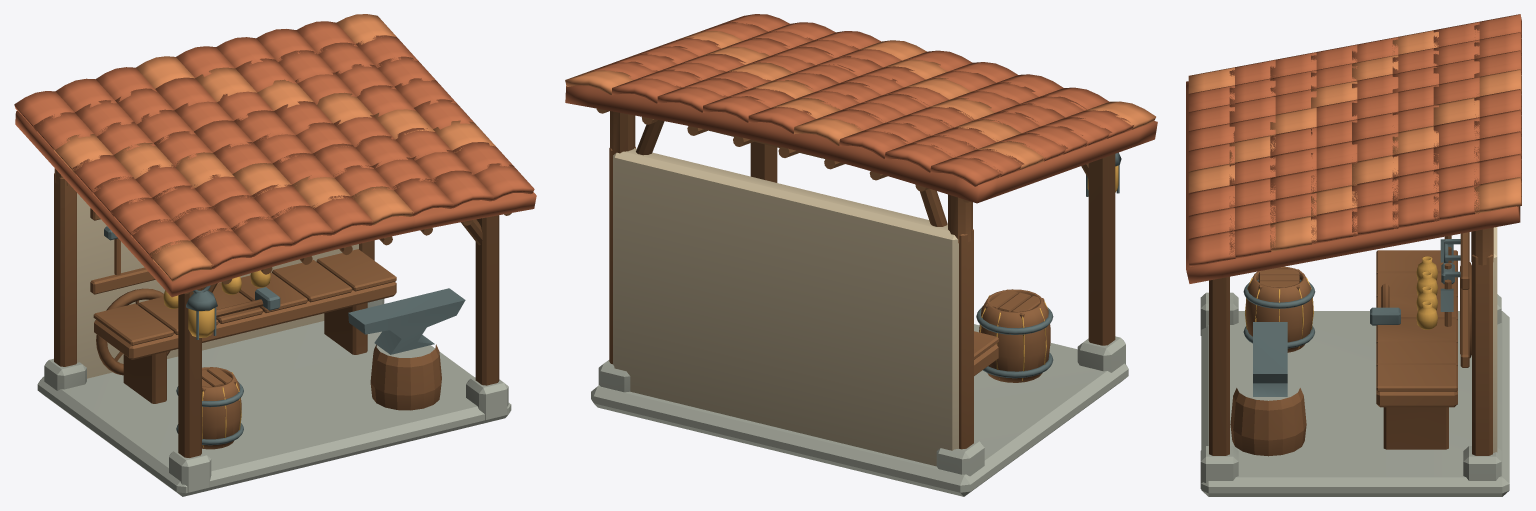
The model's file is village-smithYard.glb.
The picture shows the model from 3 angles, left to right: view 1: azimuth 30°, elevation 25°; view 2: azimuth 150°, elevation 25°; view 3: azimuth 270°, elevation 25°; orthographic projection. The views are drawn at different scales.
Parts seen in each view (by area): view 1: HERO_smithYard_batch_tile, HERO_smithYard_batch_timber, HERO_smithYard_batch_stone.001, HERO_smithYard_batch_tileLight, HERO_smithYard_batch_plaster, HERO_smithYard_batch_iron, HERO_smithYard_batch_brass; view 2: HERO_smithYard_batch_plaster, HERO_smithYard_batch_tile, HERO_smithYard_batch_stone.001, HERO_smithYard_batch_timber, HERO_smithYard_batch_tileLight, HERO_smithYard_batch_iron; view 3: HERO_smithYard_batch_tile, HERO_smithYard_batch_stone.001, HERO_smithYard_batch_timber, HERO_smithYard_batch_tileLight, HERO_smithYard_batch_iron, HERO_smithYard_batch_brass, HERO_smithYard_batch_plaster.
Part boxes in pixels (x1,y1,x2,y2): HERO_smithYard_batch_tile: (14,21,536,297); HERO_smithYard_batch_timber: (54,168,511,457); HERO_smithYard_batch_stone.001: (37,299,511,496); HERO_smithYard_batch_tileLight: (53,14,495,281); HERO_smithYard_batch_plaster: (77,193,358,378); HERO_smithYard_batch_iron: (104,226,465,445); HERO_smithYard_batch_brass: (163,270,270,447); HERO_smithYard_batch_plaster: (613,148,958,466); HERO_smithYard_batch_tile: (565,14,1157,203); HERO_smithYard_batch_stone.001: (591,324,1128,496); HERO_smithYard_batch_timber: (596,108,1115,449); HERO_smithYard_batch_tileLight: (565,30,1155,169); HERO_smithYard_batch_iron: (976,152,1121,378); HERO_smithYard_batch_tile: (1186,14,1521,283); HERO_smithYard_batch_stone.001: (1200,292,1509,496); HERO_smithYard_batch_timber: (1209,227,1493,456); HERO_smithYard_batch_tileLight: (1188,30,1521,251); HERO_smithYard_batch_iron: (1243,239,1460,396); HERO_smithYard_batch_brass: (1245,256,1437,348); HERO_smithYard_batch_plaster: (1493,227,1497,452).
Size of the model in its own units: 4.9 by 3.89 by 3.71.
